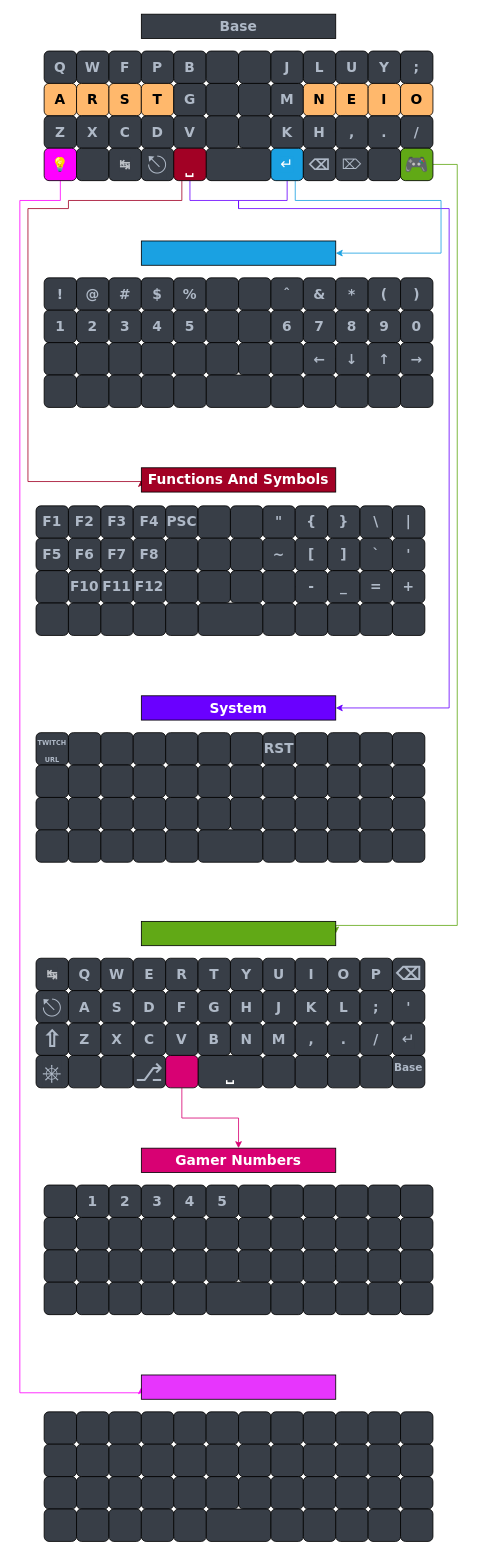
This 478x1556 diagram has some shape labels left out. The centre of each missing label's shape, as x and y in pixels:
F9: the point at 51,586
Gamer: the point at 238,933
Num: the point at 181,1071
Nums And Symbols: the point at 238,252
RBG: the point at 238,1386
